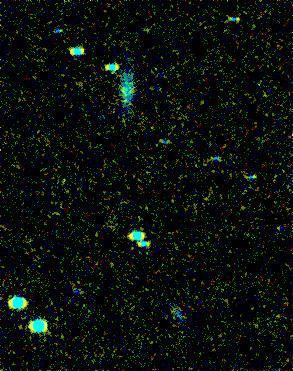star: (109, 86, 139, 116)
